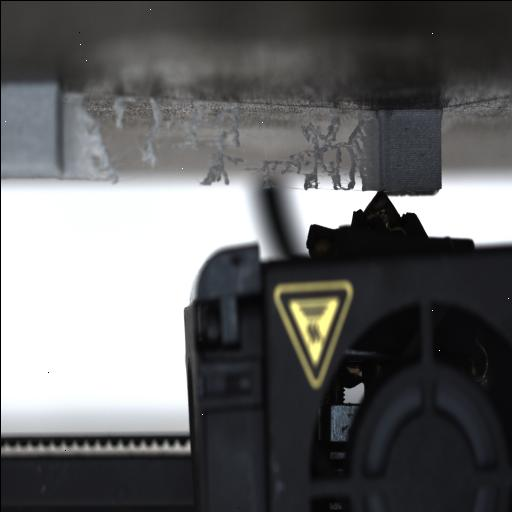stringing: (174, 102, 240, 181), (338, 110, 368, 188), (252, 153, 310, 189), (300, 110, 340, 150), (110, 94, 136, 130)
